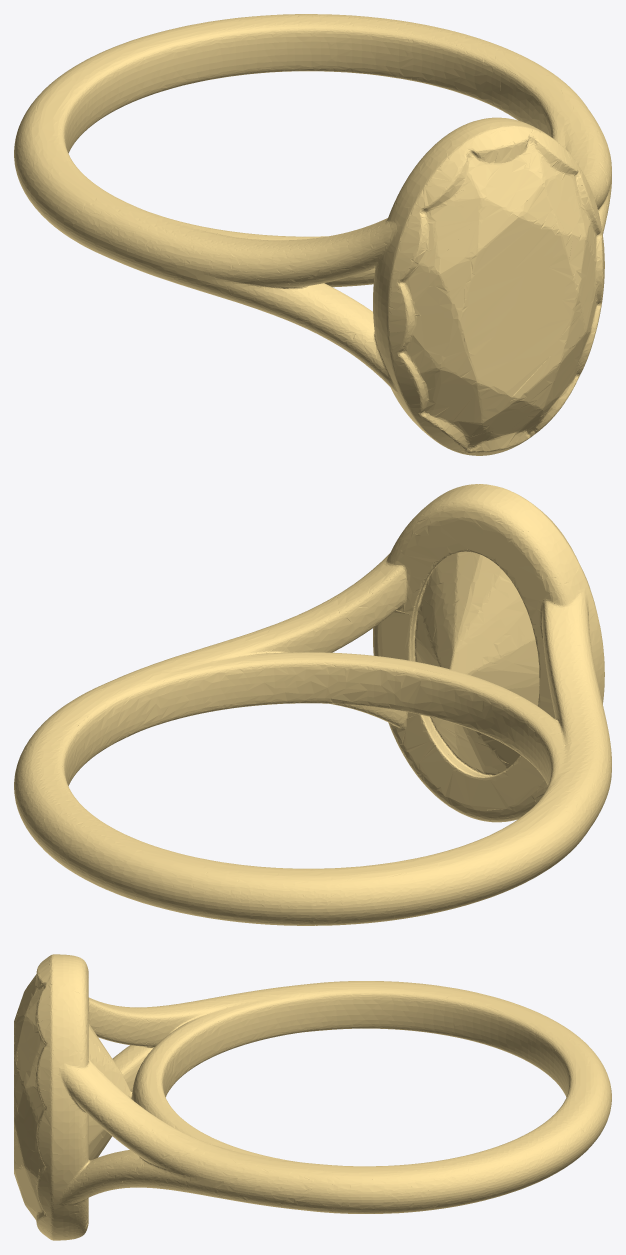
The model's file is solitaire-ring.glb.
The picture shows the model from 3 angles, top to bottom: view 1: azimuth 30°, elevation 25°; view 2: azimuth 150°, elevation 25°; view 3: azimuth 270°, elevation 25°; orthographic projection. The views are drawn at different scales.
Visible parts, largest first — view 1: Metal Yellow Gold; view 2: Metal Yellow Gold; view 3: Metal Yellow Gold.
Part boxes in pixels (x1,y1,x2,y2): Metal Yellow Gold: (14, 14, 611, 455); Metal Yellow Gold: (14, 484, 611, 925); Metal Yellow Gold: (14, 954, 611, 1240).
Bounding box in the file's own units: 20.08 × 12.26 × 24.42.
